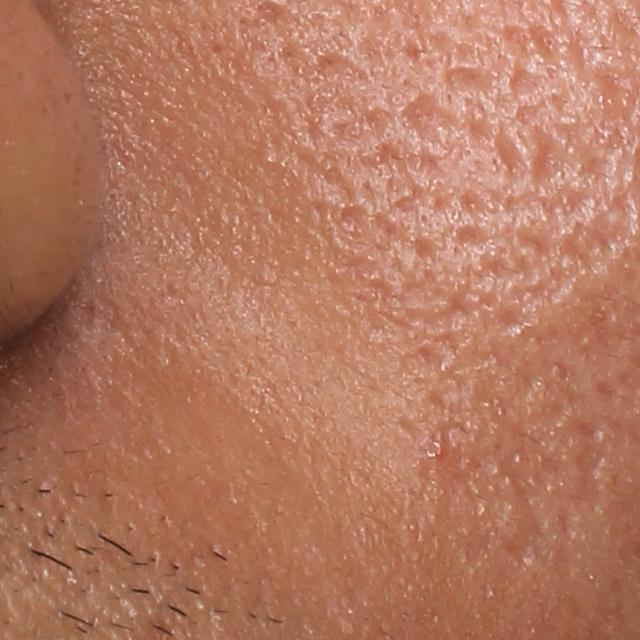atrophic_scar: (497, 456, 551, 577), (398, 87, 469, 154), (529, 122, 585, 197), (574, 426, 611, 514), (493, 120, 532, 179), (441, 63, 499, 96), (509, 59, 548, 100), (456, 226, 492, 252)
